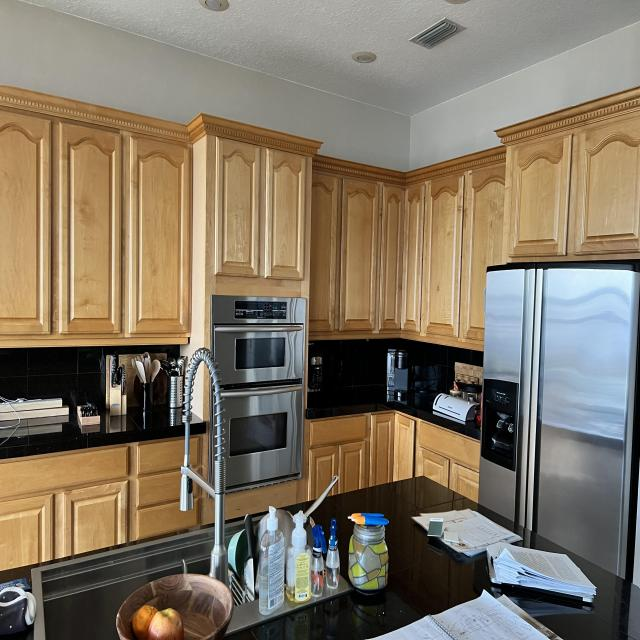Appliance_Fridge: (479, 260, 640, 582)
Appliance_Oven: (211, 295, 308, 496)
Appliance_Sink: (28, 527, 216, 640), (178, 348, 225, 584)
Cabinet_Flat: (0, 436, 213, 537), (416, 422, 482, 472), (225, 481, 303, 518), (310, 416, 371, 445)
Cabinet_Raised_Panel: (0, 86, 640, 350), (309, 411, 481, 502), (0, 481, 131, 571)
Countertop_Solid_Surface: (223, 477, 640, 640), (0, 407, 206, 460), (306, 396, 481, 437)
